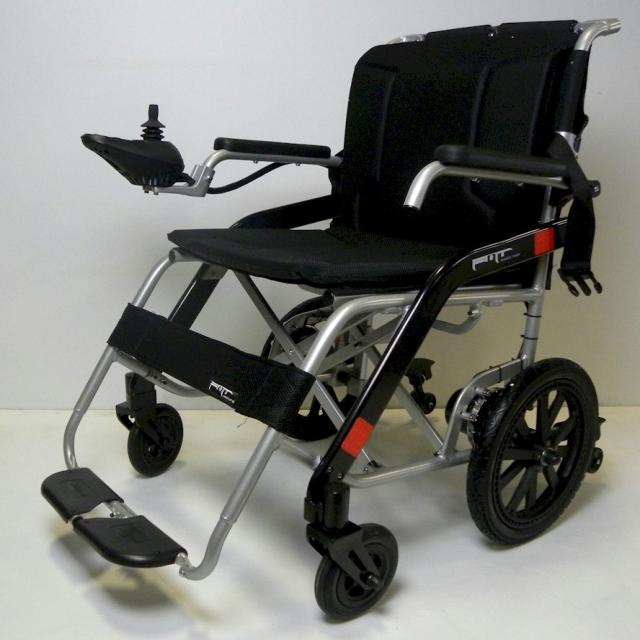wheelchair: (31, 4, 614, 627)
